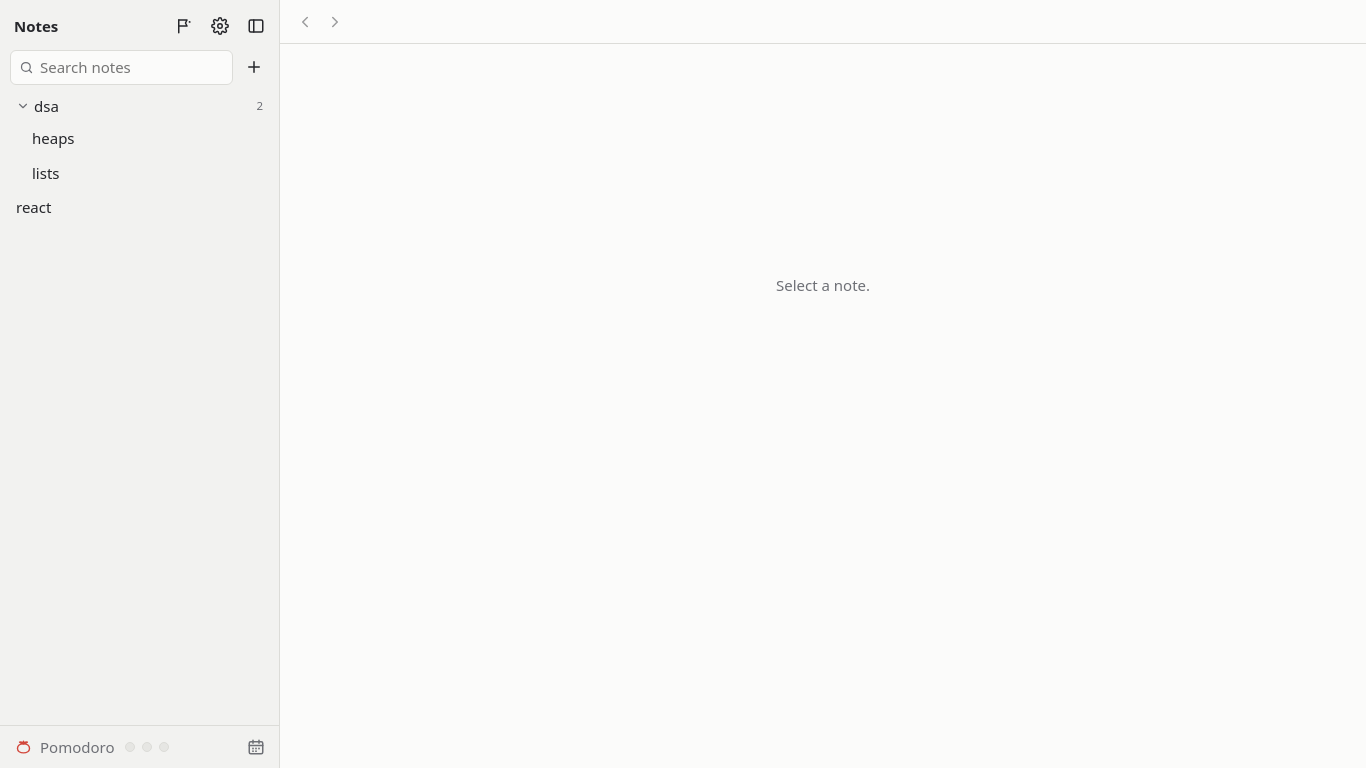
Scenario: sidebar › collapses a folder and remembers it
Click the text "dsa".
click(46, 106)  # box [34,96,59,116]
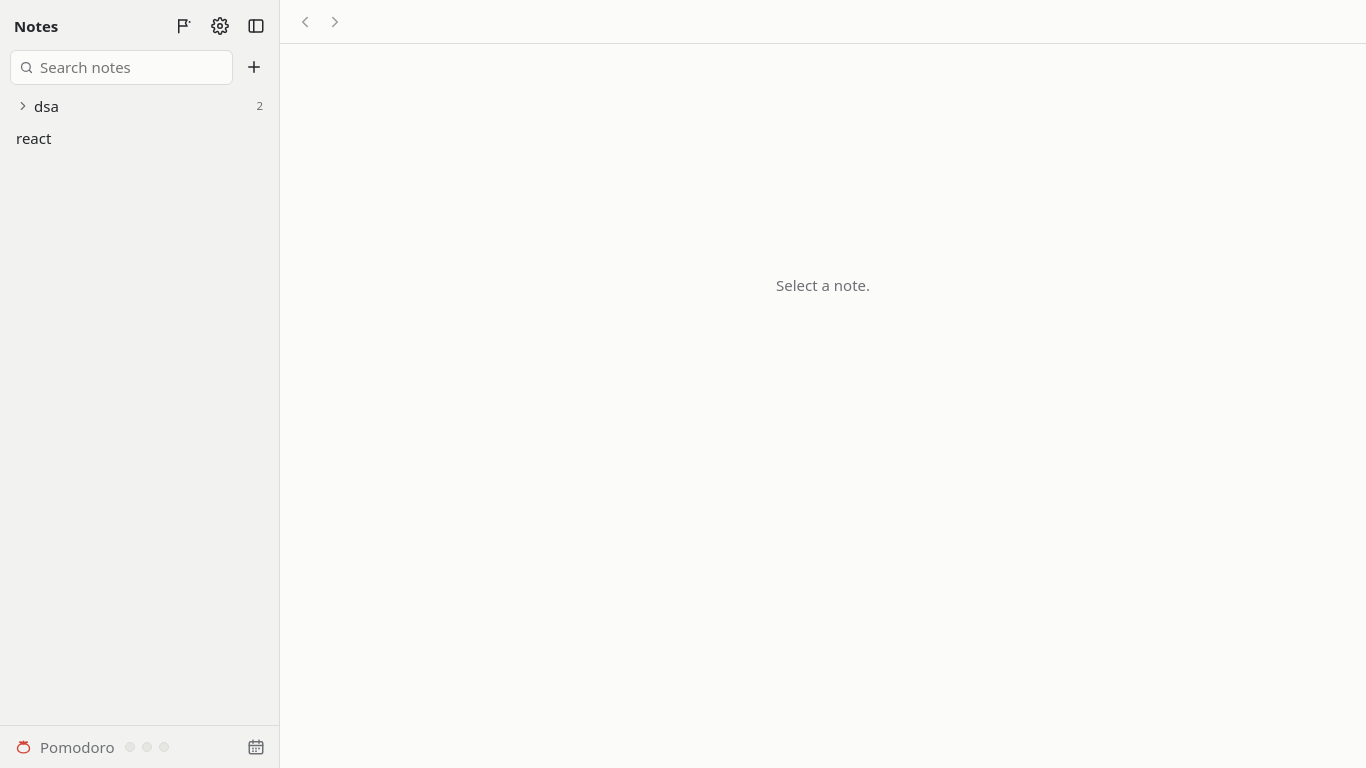
Check: the option "heaps" is gone
